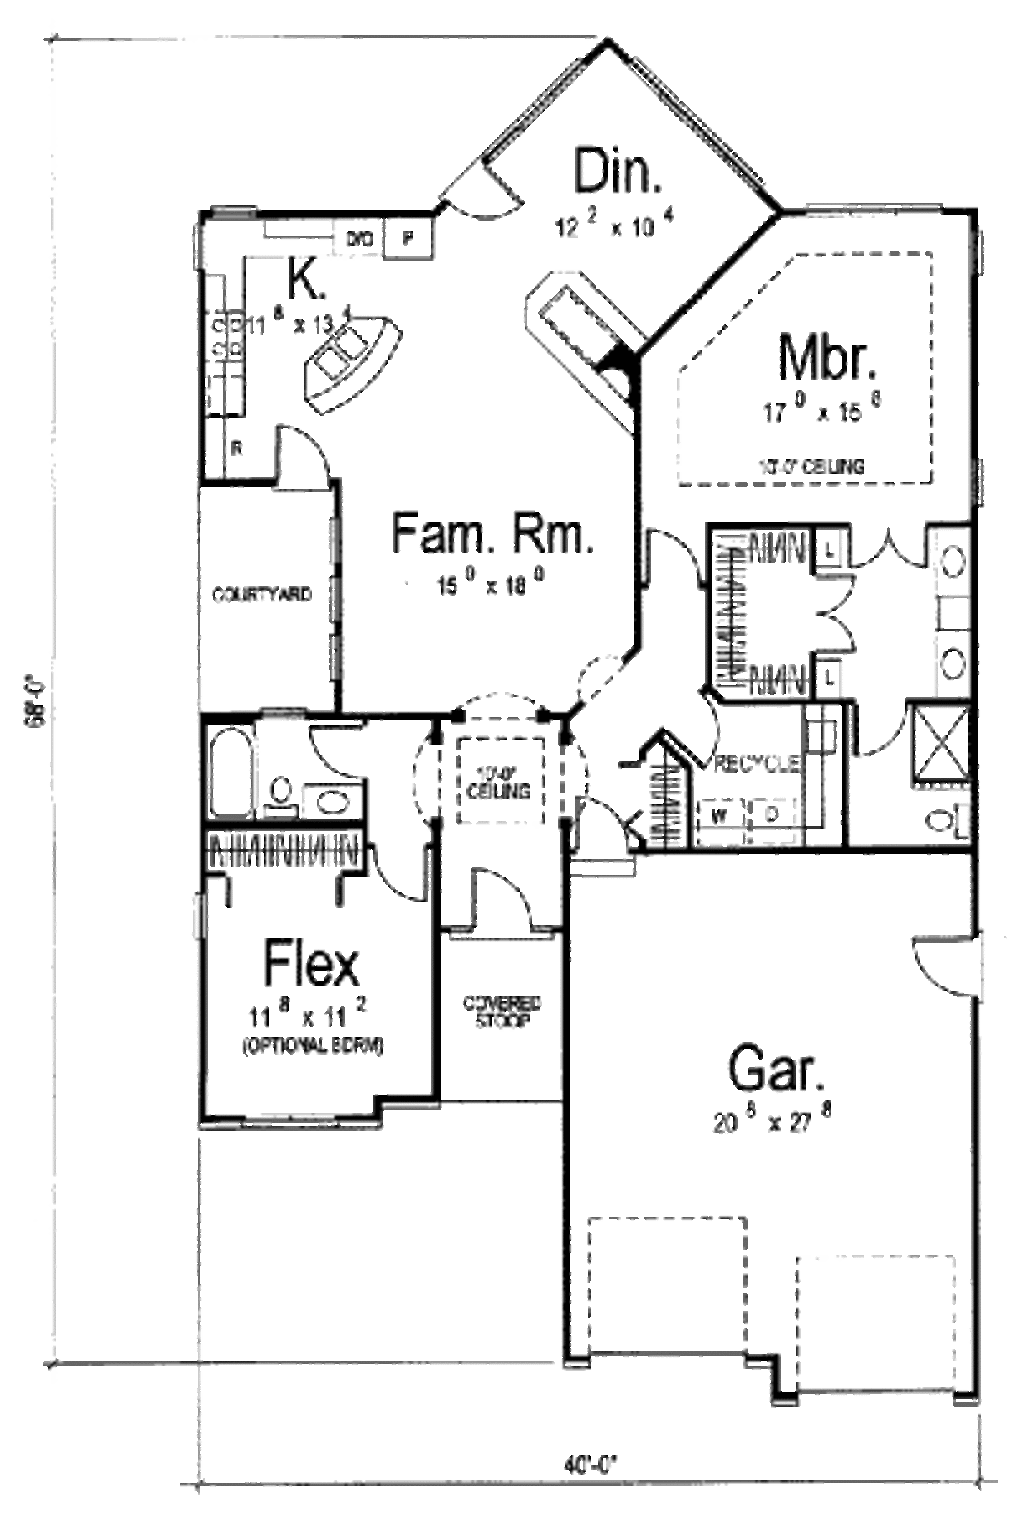door: (453, 864, 560, 954), (560, 780, 635, 887), (443, 154, 541, 235), (893, 932, 1005, 999), (261, 406, 341, 497), (653, 693, 743, 772), (793, 554, 853, 659), (834, 517, 931, 575), (629, 535, 710, 605), (362, 847, 434, 911), (837, 695, 903, 761), (309, 723, 367, 783)
kitchen_bar: (281, 293, 408, 411)
large_sink: (898, 785, 979, 847), (255, 764, 309, 833)
small_sink: (922, 521, 979, 697), (296, 783, 365, 833)
tub: (208, 717, 258, 823)
twin_sink: (303, 318, 377, 381)
